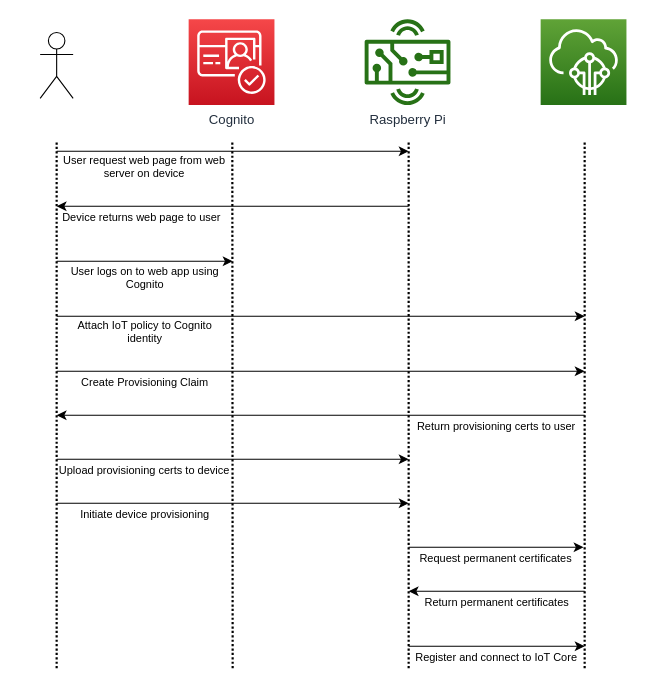
The diagram is 646 pixels wide and 690 high, and some of its shapes have lost their labels. Here are the shapes that lost their labels. From the top down, the centre of each, then its label:
pixel 56 64: Trusted User
pixel 583 61: IoT Core
